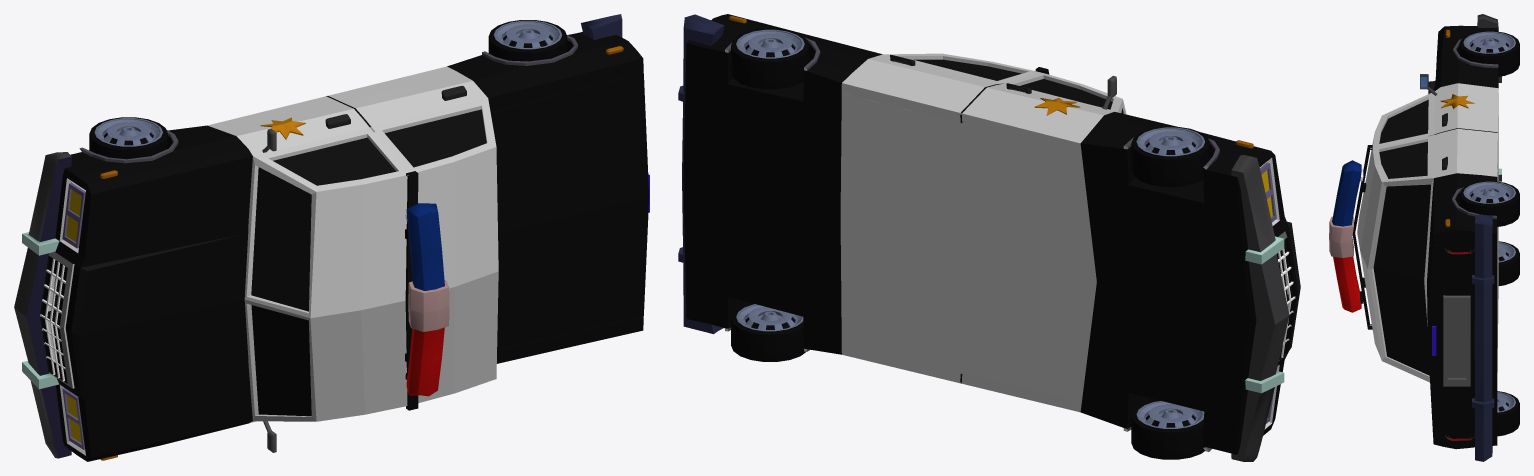
The model's file is PoliceCar.obj.
3 renders of one model, left to right at view 1: azimuth 30°, elevation 25°; view 2: azimuth 150°, elevation 25°; view 3: azimuth 270°, elevation 25°, orthographic. The views are drawn at different scales.
Visible parts, largest first — view 1: Object_13; view 2: Object_13; view 3: Object_13.
Boxes of the visible parts, x1=… form: Object_13: x1=14, y1=14, x2=649, y2=461; Object_13: x1=678, y1=14, x2=1300, y2=461; Object_13: x1=1329, y1=14, x2=1519, y2=461.
Bounding box in the file's own units: 3.48 × 1.76 × 1.24.
